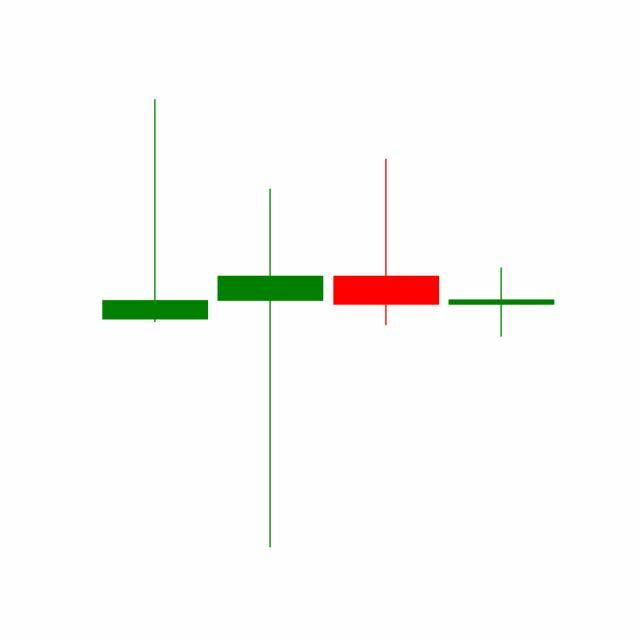Spinning Top: (444, 267, 560, 339)
